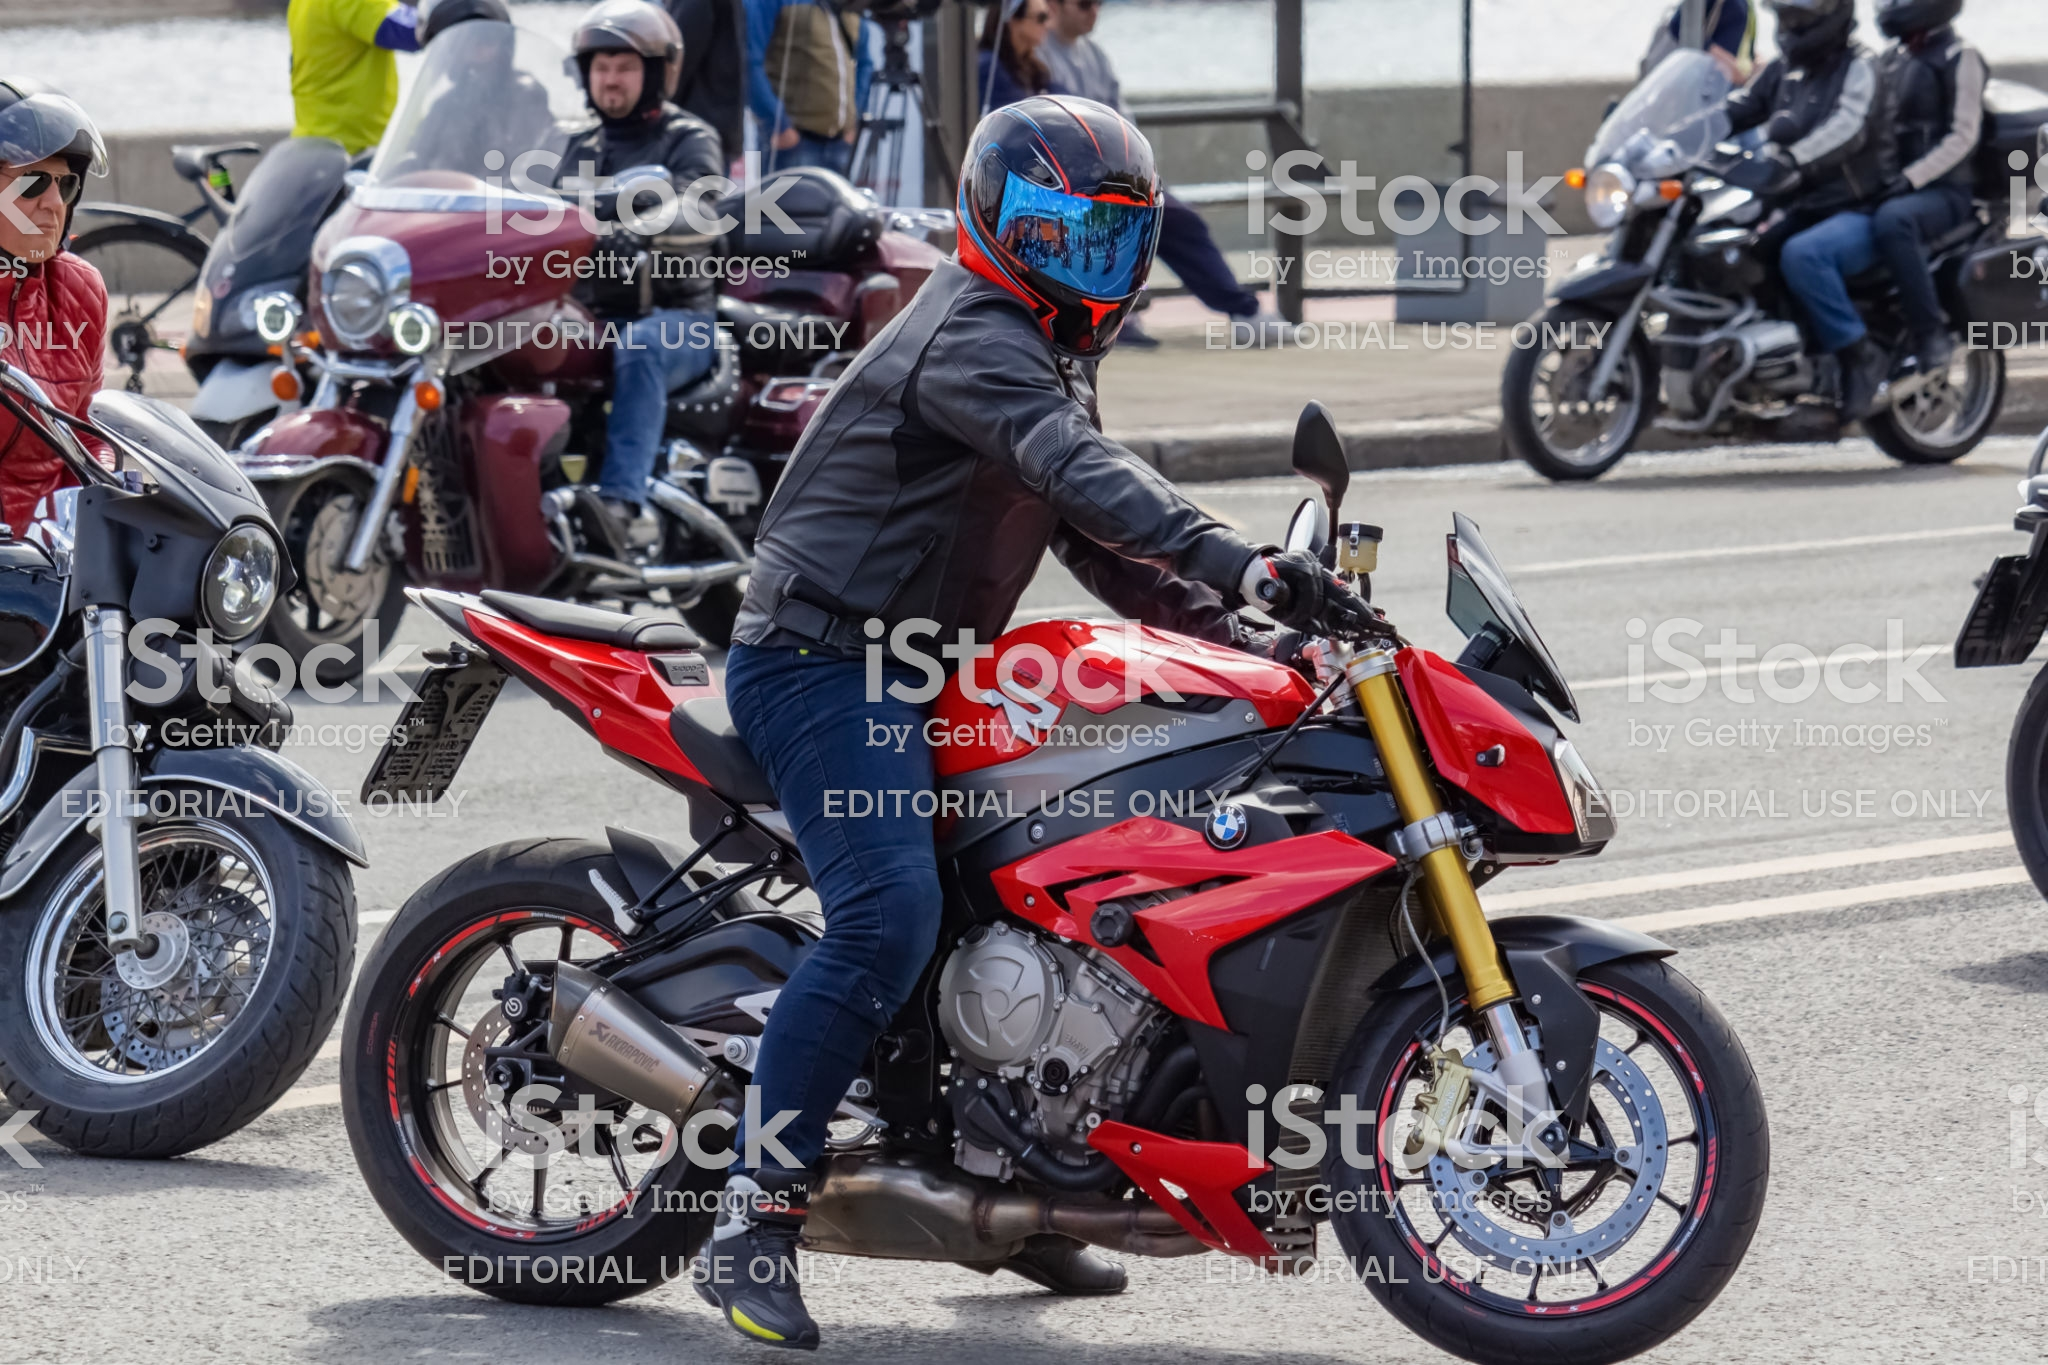helmet: (943, 97, 1156, 347)
